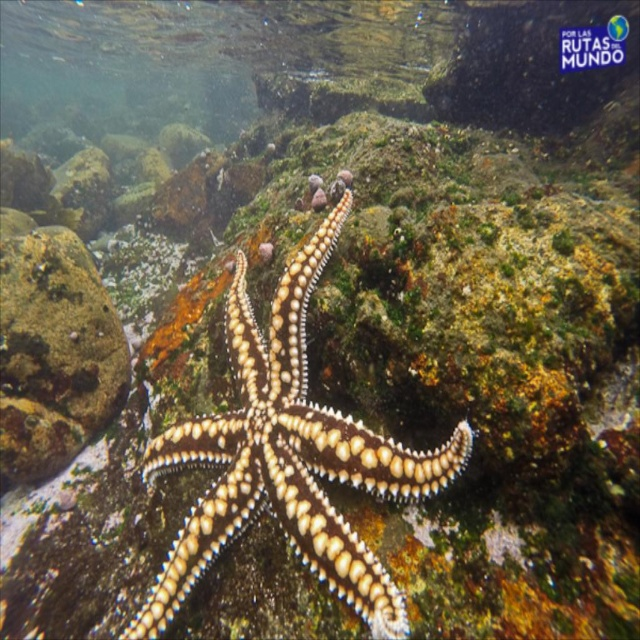Starfish: (118, 189, 479, 640)
